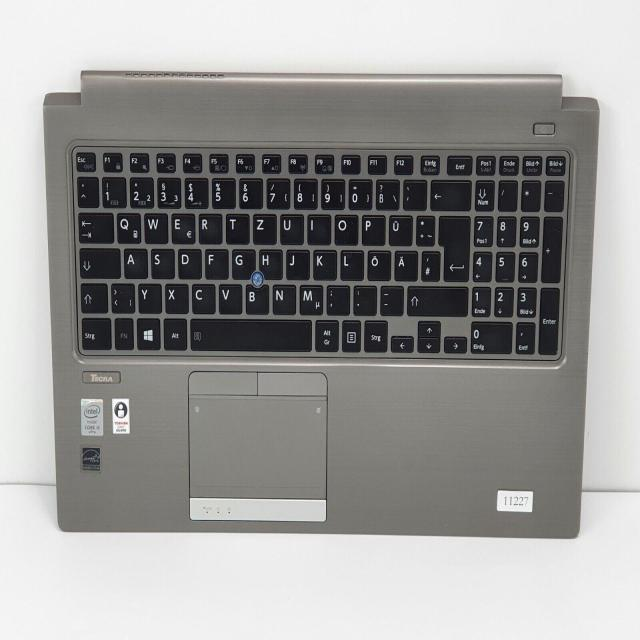0: (346, 177, 371, 208)
1: (101, 175, 126, 207)
2: (128, 175, 153, 207)
3: (155, 175, 180, 206)
4: (183, 175, 206, 206)
5: (210, 176, 234, 206)
6: (237, 176, 261, 207)
7: (265, 176, 289, 207)
8: (292, 177, 316, 208)
9: (319, 177, 344, 208)
a: (122, 245, 146, 277)
accent: (401, 178, 425, 209)
ae: (392, 248, 417, 279)
alt-left: (162, 316, 186, 349)
altgr-right: (314, 317, 338, 350)
b: (244, 282, 267, 313)
c: (190, 281, 214, 312)
caret: (75, 174, 97, 205)
comma: (325, 283, 349, 314)
d: (176, 246, 200, 278)
del: (429, 177, 470, 208)
e: (169, 210, 194, 242)
enter: (436, 212, 468, 281)
f: (204, 246, 227, 277)
g: (230, 246, 253, 277)
h: (257, 247, 281, 278)
hash: (420, 248, 439, 279)
i: (306, 212, 329, 243)
j: (285, 247, 308, 278)
k: (311, 247, 335, 278)
keyboard: (66, 137, 576, 374)
l: (339, 247, 363, 279)
less: (109, 281, 134, 312)
m: (297, 282, 322, 313)
minus: (378, 283, 402, 314)
n: (271, 282, 295, 313)
o: (332, 212, 356, 243)
oe: (365, 248, 389, 279)
p: (359, 213, 384, 245)
plus: (414, 212, 433, 244)
point: (352, 283, 376, 314)
q: (115, 210, 140, 242)
r: (196, 211, 221, 243)
s: (149, 246, 173, 278)
shift-left: (78, 280, 106, 312)
shift-lock: (77, 245, 119, 277)
shift-right: (406, 283, 467, 314)
space: (189, 316, 311, 349)
ss: (374, 177, 398, 208)
strg-left: (78, 315, 110, 349)
strg-right: (362, 318, 386, 350)
t: (224, 211, 248, 242)
tab: (77, 209, 112, 241)
u: (278, 211, 302, 243)
ue: (386, 213, 411, 245)
v: (217, 281, 241, 313)
w: (142, 210, 167, 242)
x: (163, 281, 187, 312)
y: (136, 281, 161, 312)
z: (251, 211, 275, 243)
